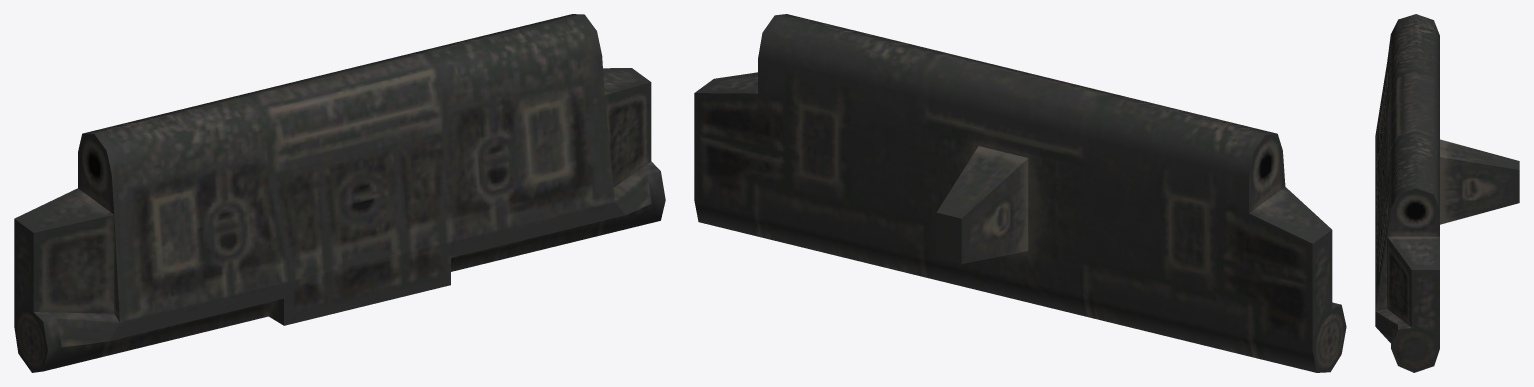
3 views of the same model, side by side, from view 1: azimuth 30°, elevation 25°; view 2: azimuth 150°, elevation 25°; view 3: azimuth 270°, elevation 25° (orthographic). The views are drawn at different scales.
Parts seen in each view (by area): view 1: set_0_group_0; view 2: set_0_group_0; view 3: set_0_group_0.
Boxes of the visible parts, x1,y1,x2,y2 form: set_0_group_0: (14, 14, 665, 372); set_0_group_0: (694, 14, 1346, 372); set_0_group_0: (1375, 14, 1519, 372).
Bounding box in the file's own units: 0.65 × 0.2236 × 0.1801.
1 material, 1 textured.
